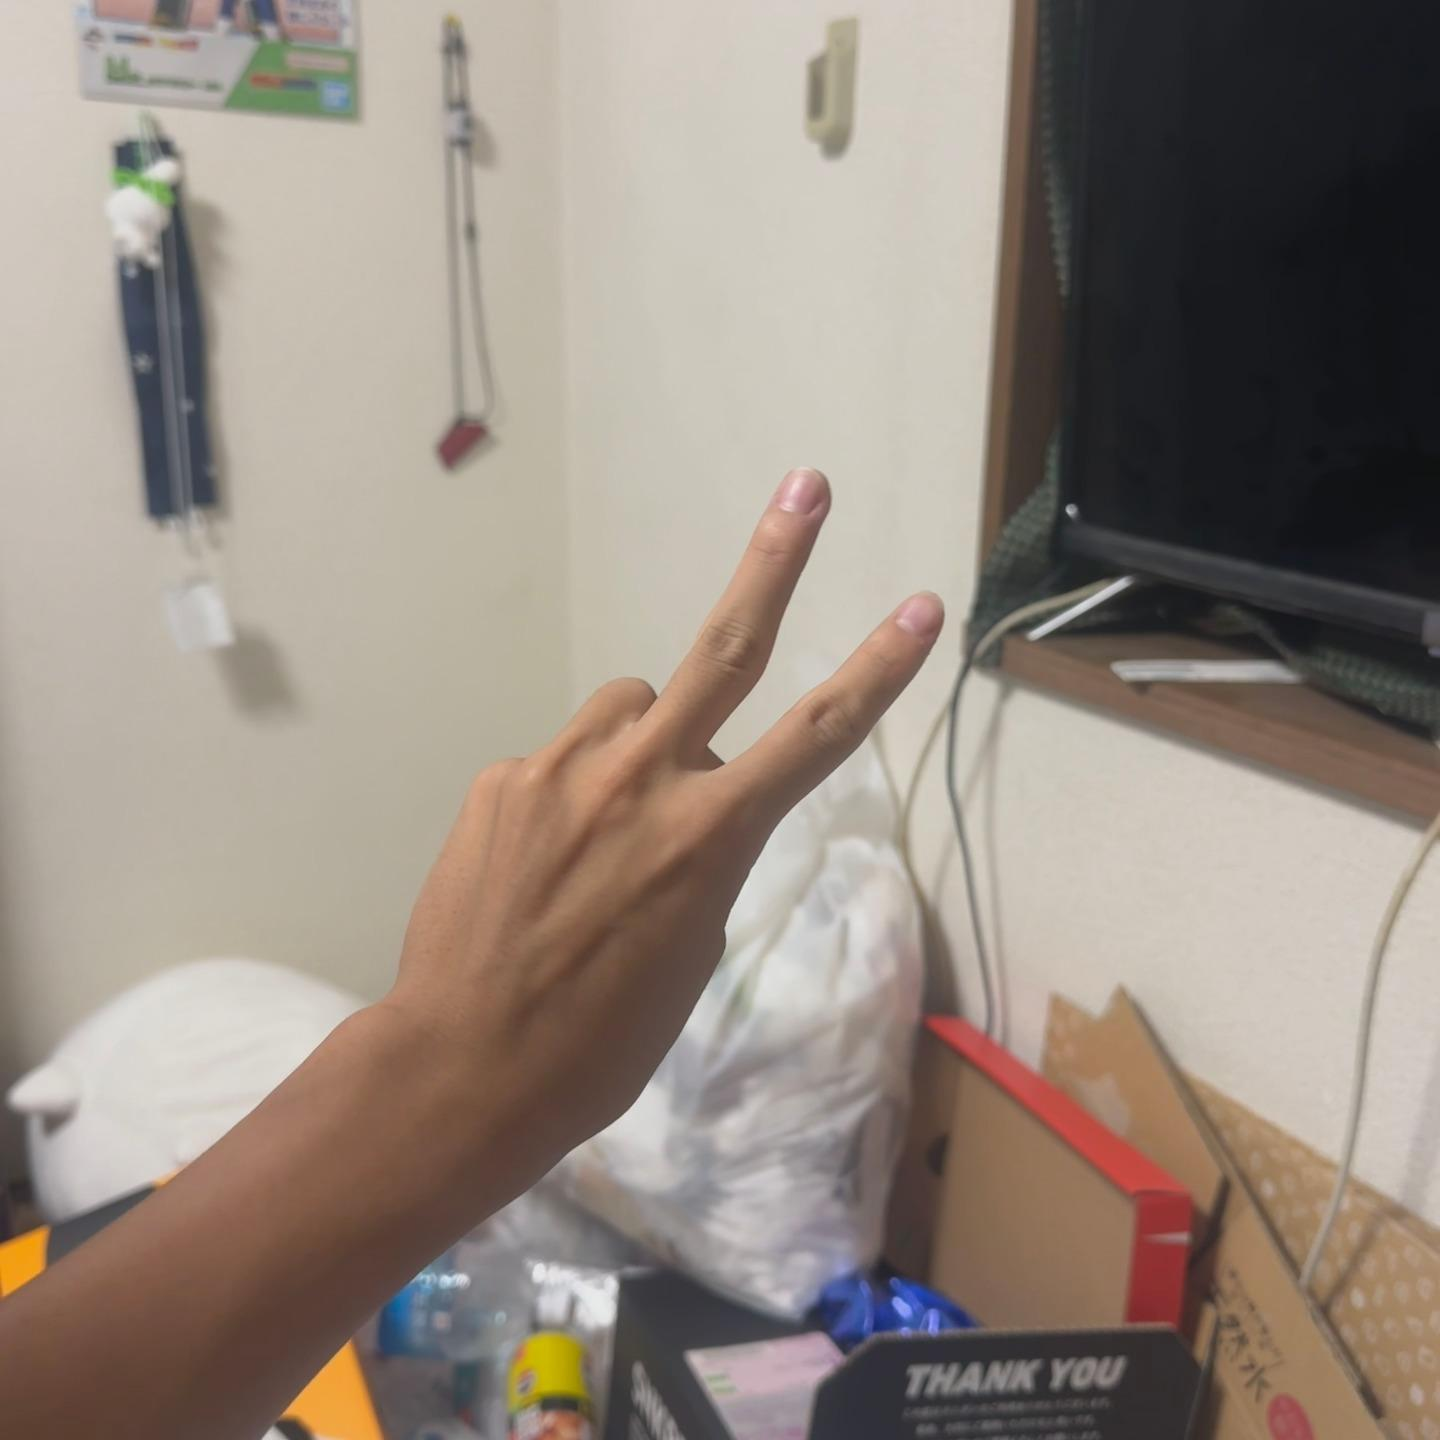without_gloves: (335, 370, 975, 1297)
